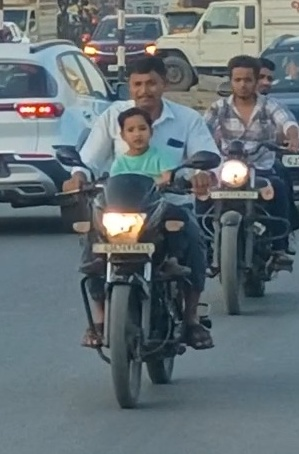BikeWithRider: (49, 51, 229, 414), (186, 50, 298, 319)
NoHelmet: (121, 52, 173, 112), (111, 105, 158, 154), (221, 51, 263, 100), (247, 54, 281, 97)
